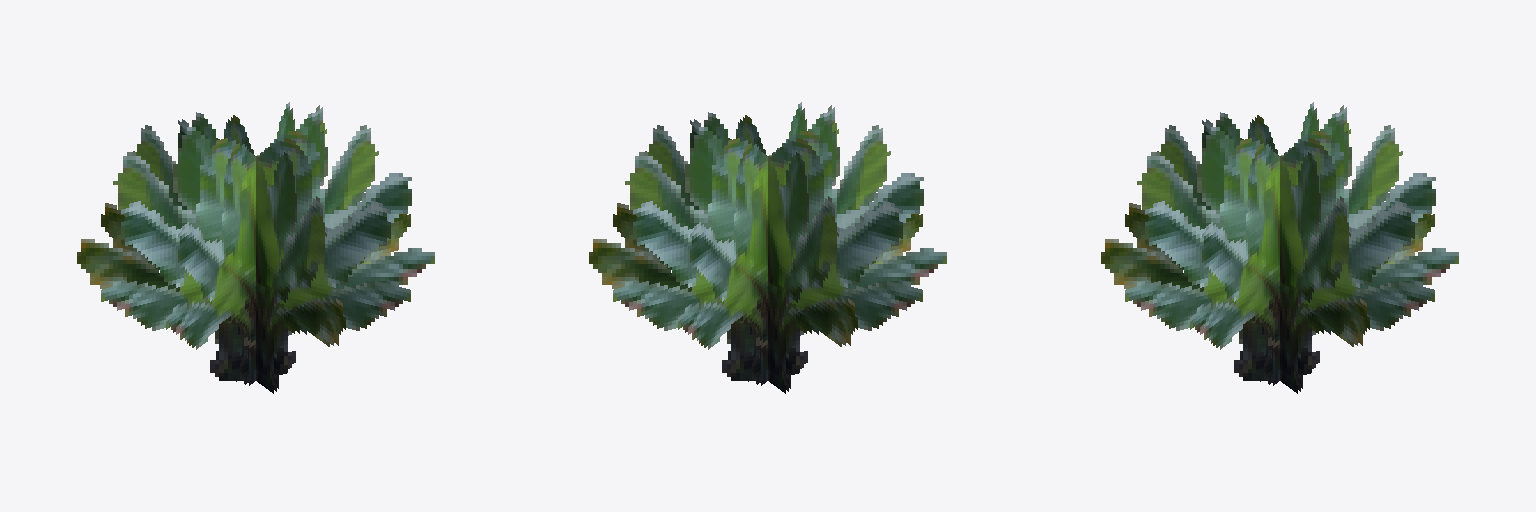
3 renders of one model, left to right at view 1: azimuth 30°, elevation 25°; view 2: azimuth 150°, elevation 25°; view 3: azimuth 270°, elevation 25°, orthographic.
Parts seen in each view (by area): view 1: plant3pixel.001; view 2: plant3pixel.001; view 3: plant3pixel.001.
Part boxes in pixels (left/top/right/bottom): plant3pixel.001: left=77, top=102, right=434, bottom=393; plant3pixel.001: left=589, top=102, right=946, bottom=393; plant3pixel.001: left=1101, top=102, right=1458, bottom=393.
Bounding box in the file's own units: 1.25 × 1 × 1.25.
Materials: 1 (1 with a texture image).